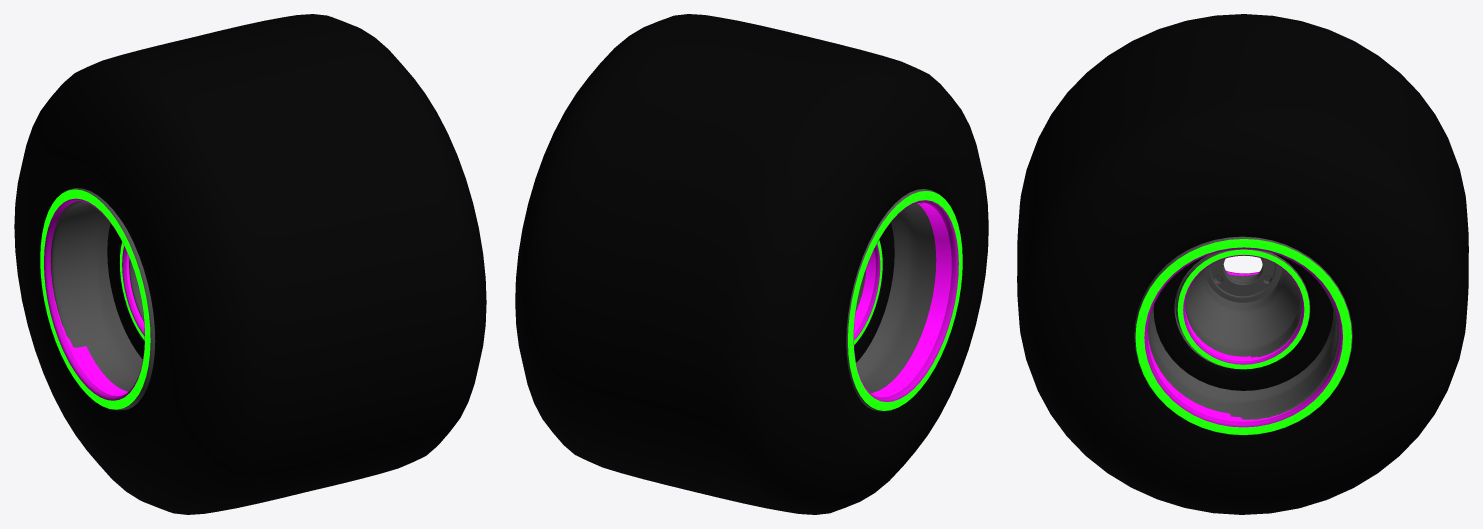
The model's file is llantas.fbx.
The picture shows the model from 3 angles, left to right: view 1: azimuth 30°, elevation 25°; view 2: azimuth 150°, elevation 25°; view 3: azimuth 270°, elevation 25°; orthographic projection. The views are drawn at different scales.
Parts seen in each view (by area): view 1: TC_RT_Kart_Basic_Slick.014, TC_RT_Kart_Basic_Slick.015, TC_RT_Kart_Basic_Slick.013, TC_RT_Kart_Basic_Slick.016; view 2: TC_RT_Kart_Basic_Slick.015, TC_RT_Kart_Basic_Slick.014, TC_RT_Kart_Basic_Slick.016; view 3: TC_RT_Kart_Basic_Slick.015, TC_RT_Kart_Basic_Slick.014, TC_RT_Kart_Basic_Slick.013, TC_RT_Kart_Basic_Slick.016.
Boxes of the visible parts, x1=… form: TC_RT_Kart_Basic_Slick.014: x1=40, y1=17, x2=480, y2=513; TC_RT_Kart_Basic_Slick.015: x1=14, y1=14, x2=486, y2=514; TC_RT_Kart_Basic_Slick.013: x1=107, y1=224, x2=144, y2=359; TC_RT_Kart_Basic_Slick.016: x1=120, y1=242, x2=144, y2=340; TC_RT_Kart_Basic_Slick.015: x1=520, y1=14, x2=947, y2=514; TC_RT_Kart_Basic_Slick.014: x1=515, y1=14, x2=988, y2=514; TC_RT_Kart_Basic_Slick.016: x1=854, y1=223, x2=894, y2=362; TC_RT_Kart_Basic_Slick.015: x1=1017, y1=21, x2=1468, y2=514; TC_RT_Kart_Basic_Slick.014: x1=1017, y1=14, x2=1468, y2=514; TC_RT_Kart_Basic_Slick.013: x1=1153, y1=249, x2=1310, y2=390; TC_RT_Kart_Basic_Slick.016: x1=1175, y1=253, x2=1333, y2=390.
Bounding box in the file's own units: 39 × 50.77 × 50.8.
